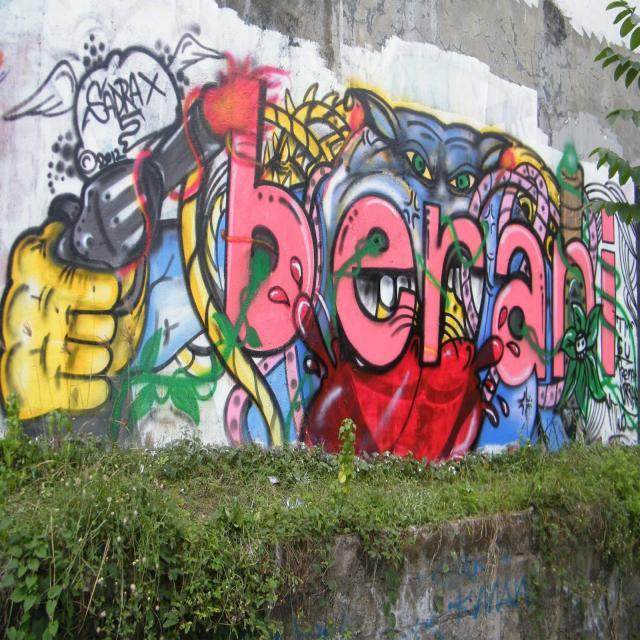-: (0, 34, 640, 458), (448, 554, 531, 617)
